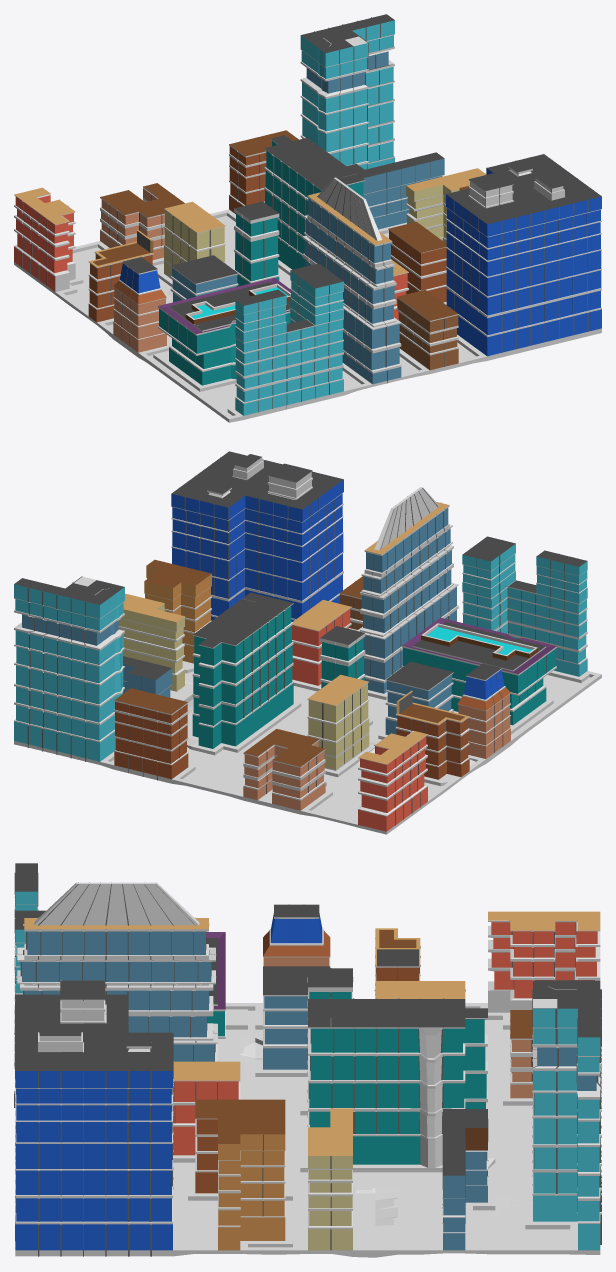
The model's file is CITY19.fbx.
The picture shows the model from 3 angles, top to bottom: view 1: azimuth 30°, elevation 25°; view 2: azimuth 150°, elevation 25°; view 3: azimuth 270°, elevation 25°; orthographic projection. The views are drawn at different scales.
Parts seen in each view (by area): view 1: Plane; view 2: Plane; view 3: Plane.
Boxes of the visible parts, x1,y1,x2,y2 form: Plane: (14,14,601,422); Plane: (14,451,601,834); Plane: (14,863,601,1257).
Size of the model in its own units: 2004 by 878 by 2010.
